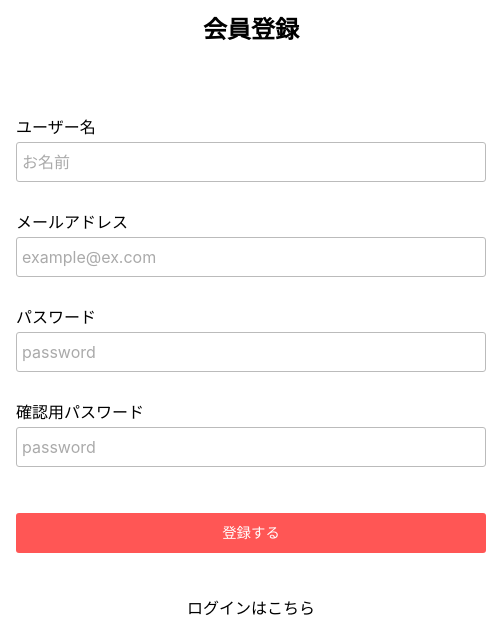
Test: 1. 会員登録機能 › 1-3. パスワードが入力されていない場合、バリデーションメッセージが表示される
Type "テストユーザー" into the field with test id "name" at (251, 162), box [16,142,486,182]
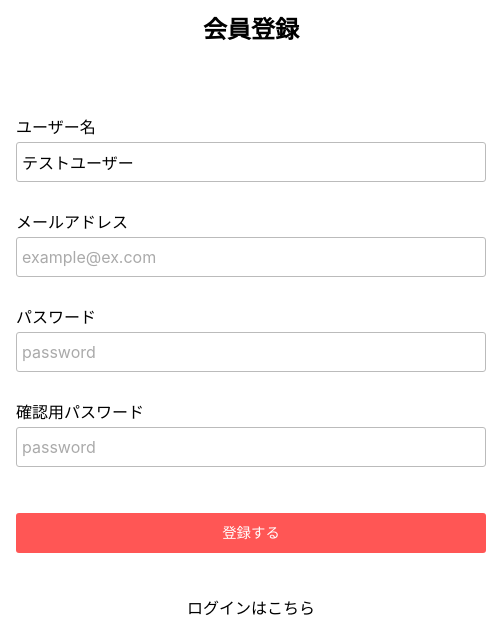
Type "test@example.com" into the field with test id "email" at (251, 257), box [16,237,486,277]
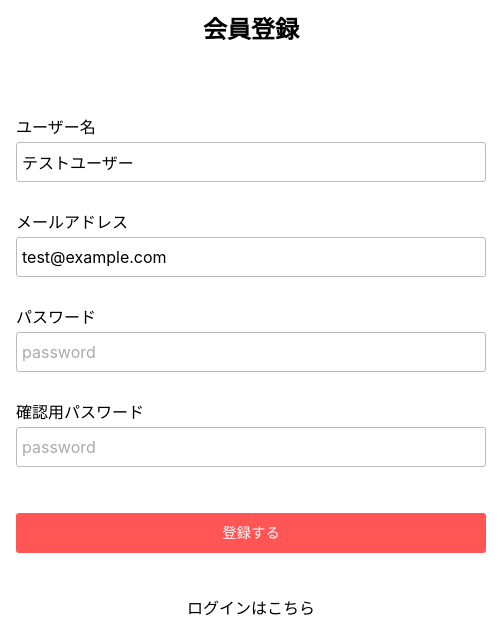
Type "password123" into the password field with test id "confirm_password" at (251, 447), box [16,427,486,467]
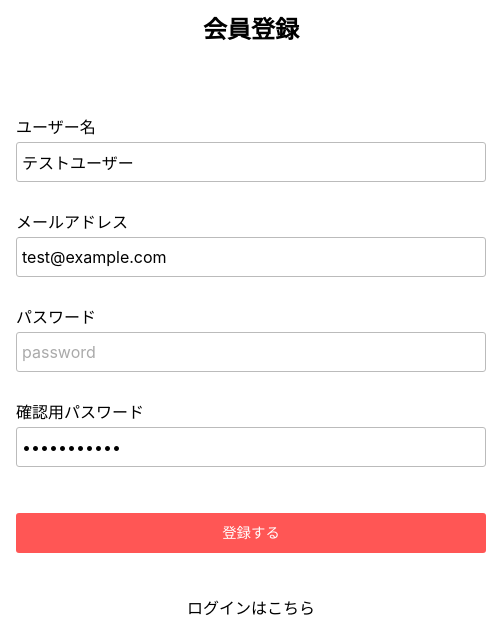
Click the button with test id "submit" at (251, 533), box [16,513,486,553]
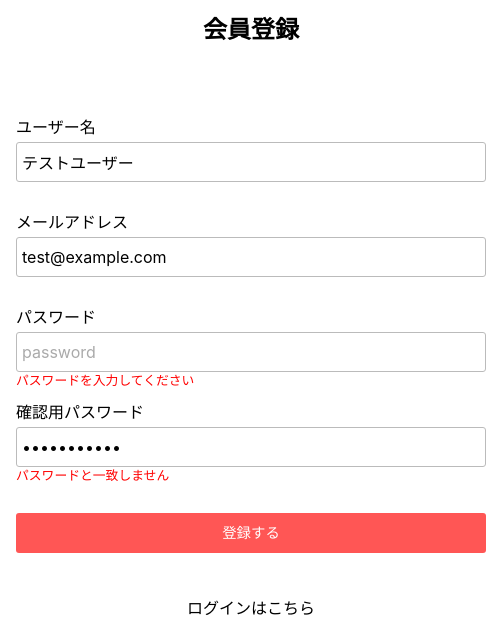
Expected: the text with test id "error-password" reads "パスワードを入力してください", [16,373,194,388]
